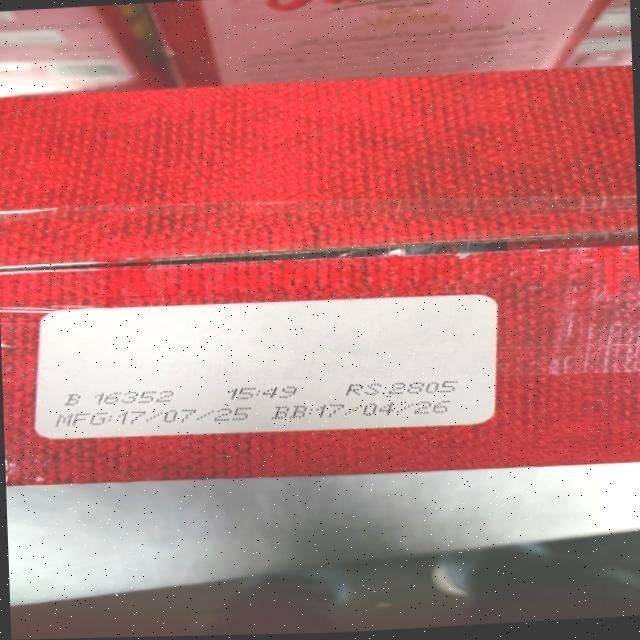BB: (274, 395, 452, 422)
Batch: (60, 387, 178, 408), (345, 377, 461, 398)
MFG: (58, 403, 255, 431)
TimeStamp: (228, 384, 302, 400)
